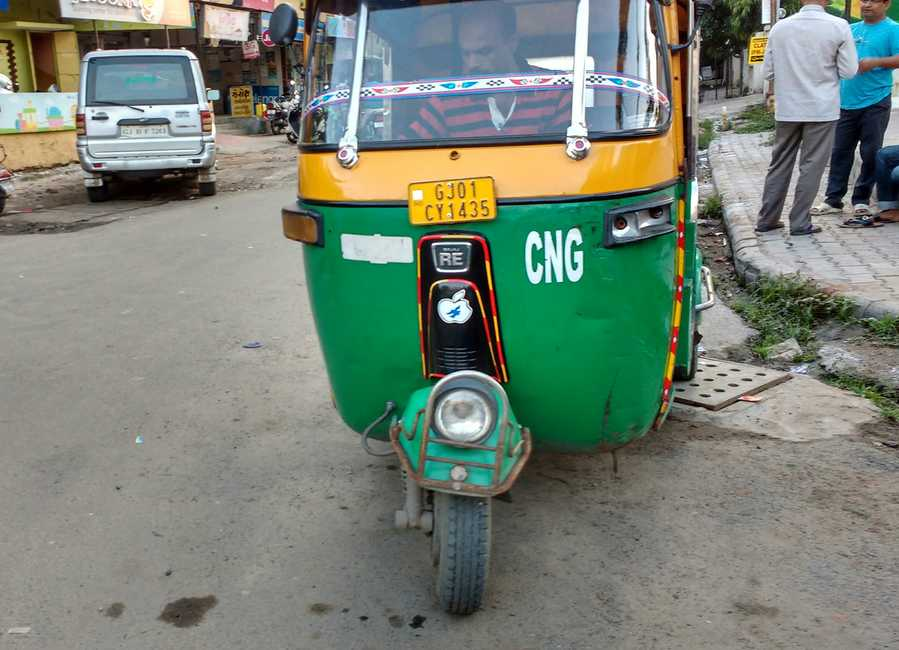doublelinenumberplate: (406, 176, 499, 228)
